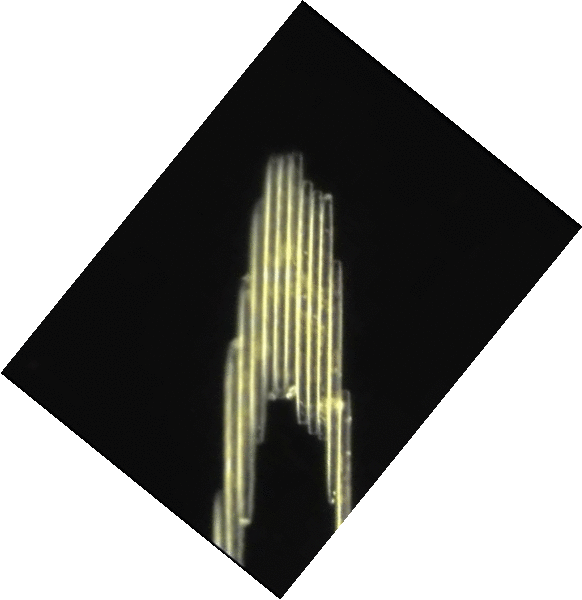bacilleria: (291, 154, 307, 424), (251, 210, 268, 442), (237, 276, 253, 519), (320, 193, 334, 442), (277, 154, 291, 398), (227, 341, 242, 565), (266, 158, 280, 398), (299, 176, 311, 430), (331, 261, 342, 508), (338, 392, 353, 528), (213, 492, 227, 549)
